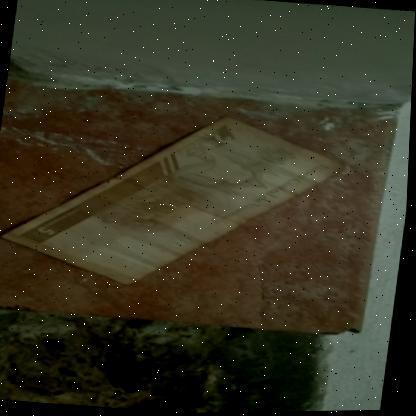vef_back: (0, 96, 351, 305)
